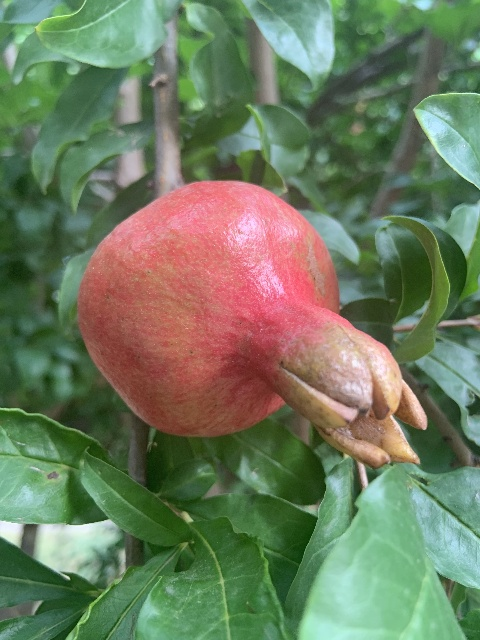ripe: (77, 181, 427, 468)
